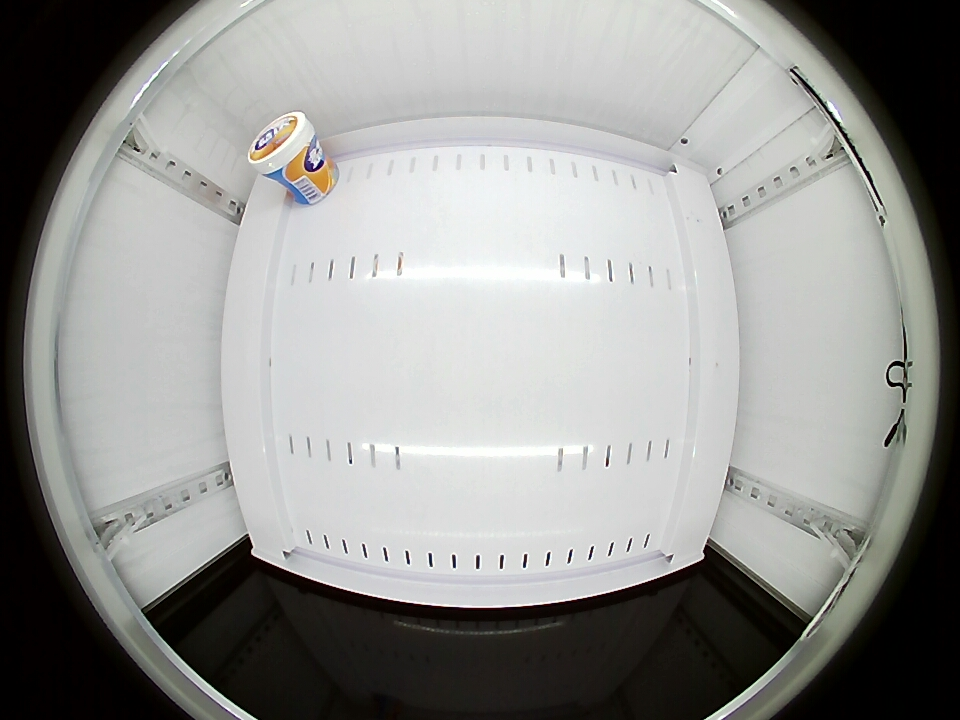yida: (247, 111, 318, 178)
